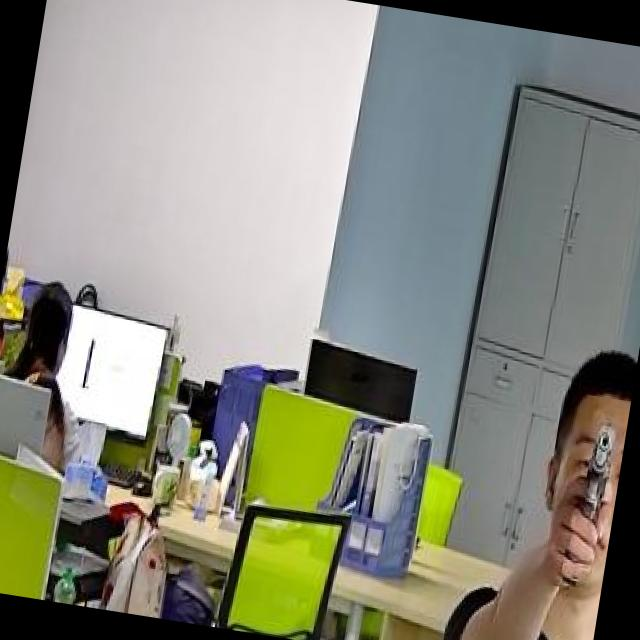Guns: (544, 408, 628, 558)
